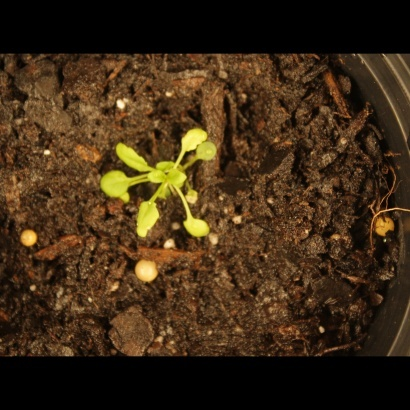leaf: (113, 141, 152, 172), (133, 199, 162, 240), (100, 167, 132, 198), (180, 124, 210, 153), (182, 214, 212, 240), (194, 139, 217, 162), (169, 166, 192, 189), (146, 170, 169, 193), (154, 149, 177, 172)
